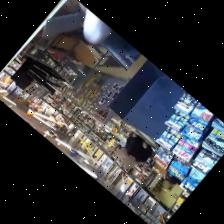person: (80, 3, 138, 55), (123, 132, 152, 167), (163, 171, 180, 187), (118, 140, 125, 147)
